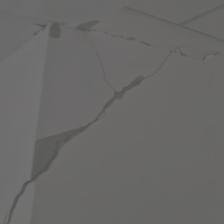High: (1, 19, 224, 222)
